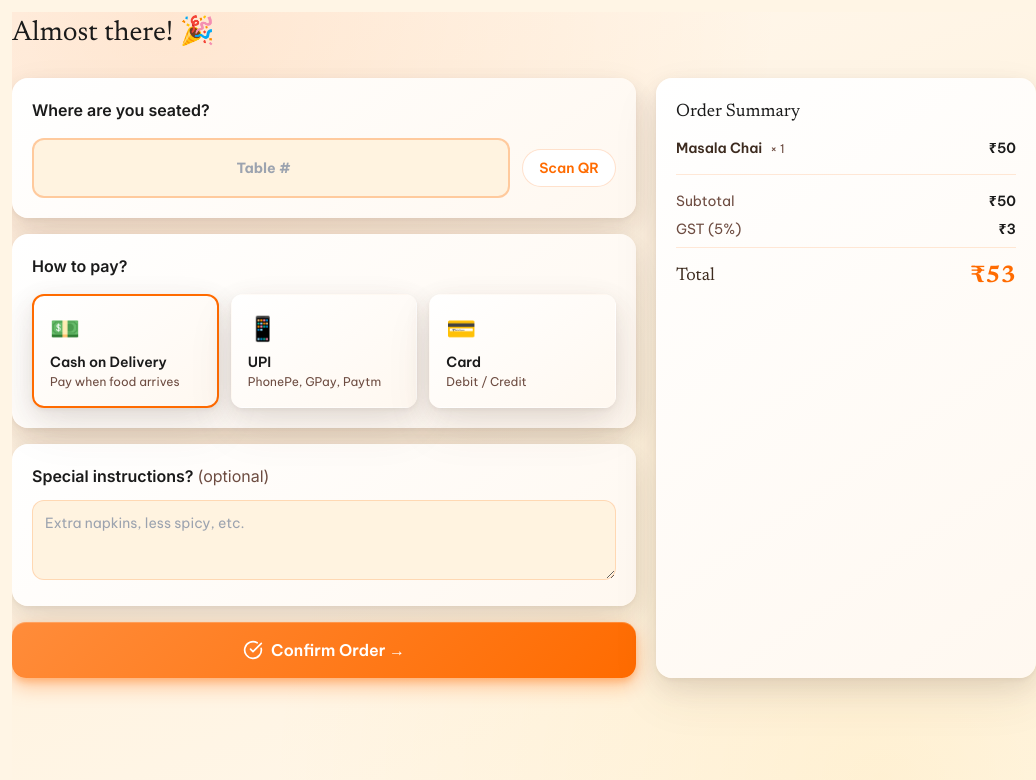
it: CheckoutScreen › surfaces API errors to the diner
Expected: the text "Masala Chai" is shown, [676,139,762,157]
Step 1. Click the button "Confirm Order →" → (324, 650), box [12,622,636,678]
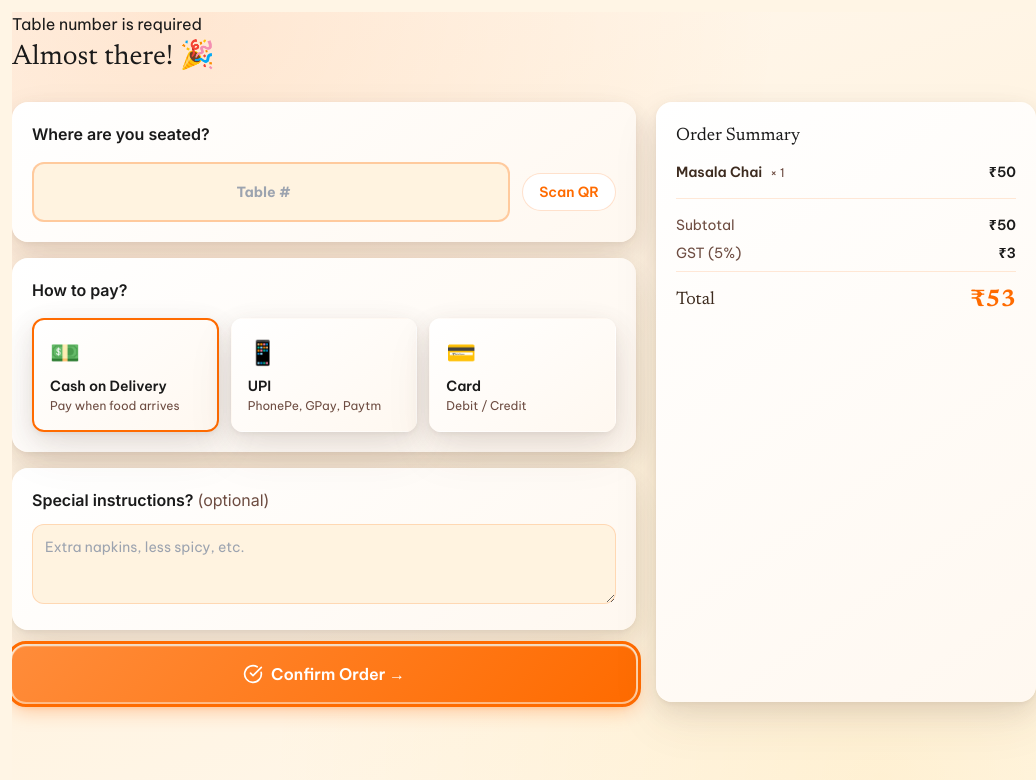
Expected: the message reads "Table number is required", [12,14,202,34]
